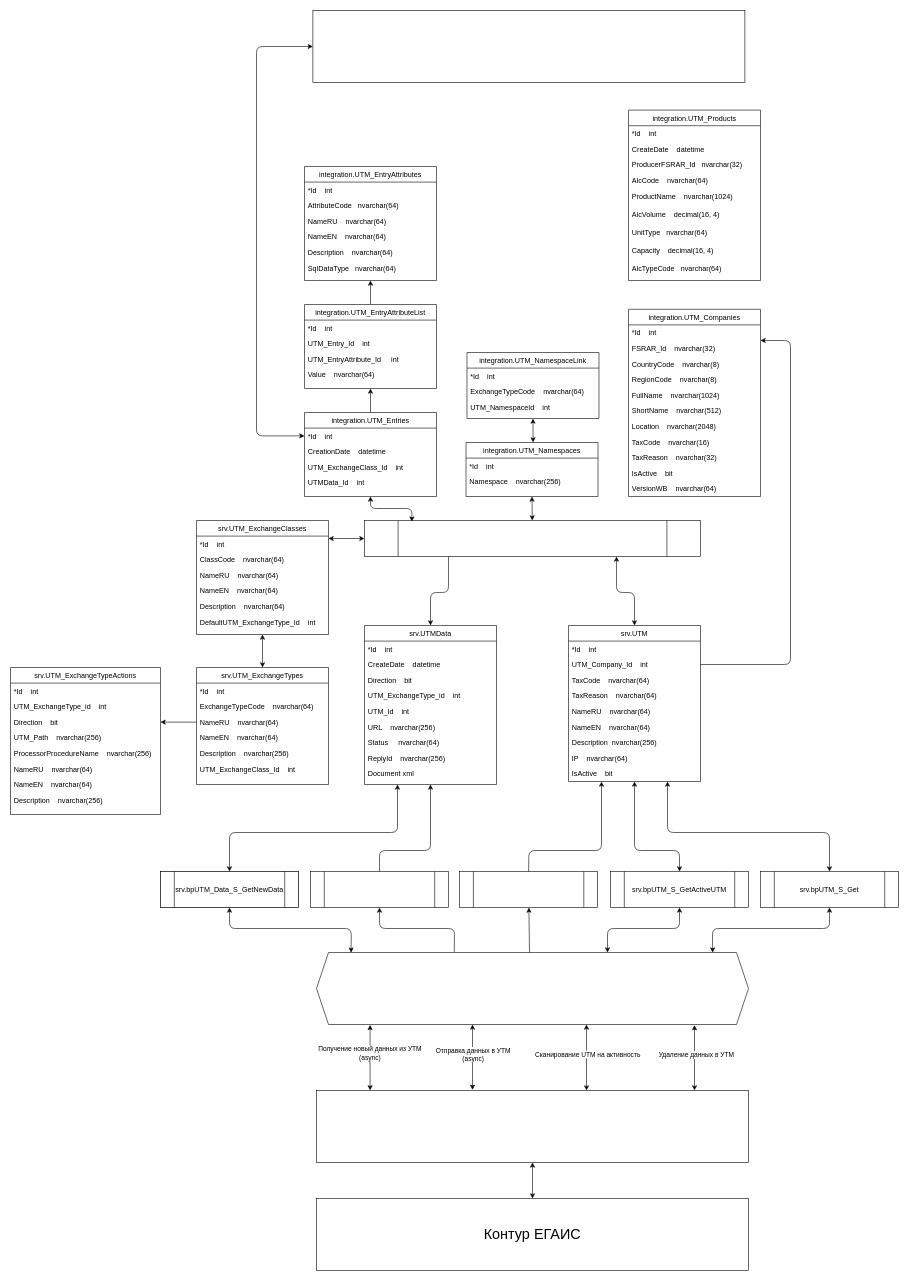
This 909x1281 diagram has some shape labels left out. Here are the shapes that lost their labels. From the top down, the centre of each, then its label:
the point at 528,46: Бизнес процессы организации
the point at 532,538: SQL процедуры парсинга и формирования объектов для отправки в УТМ
the point at 379,889: srv.bpUTM_Data_S_Add
the point at 528,889: srv.bpUTM_S_UpdateUTMState
the point at 532,988: ExchangeUTMService (Windows Service)
the point at 532,1126: УТМ(Универсальный транспортный модуль ЕГАИС)
